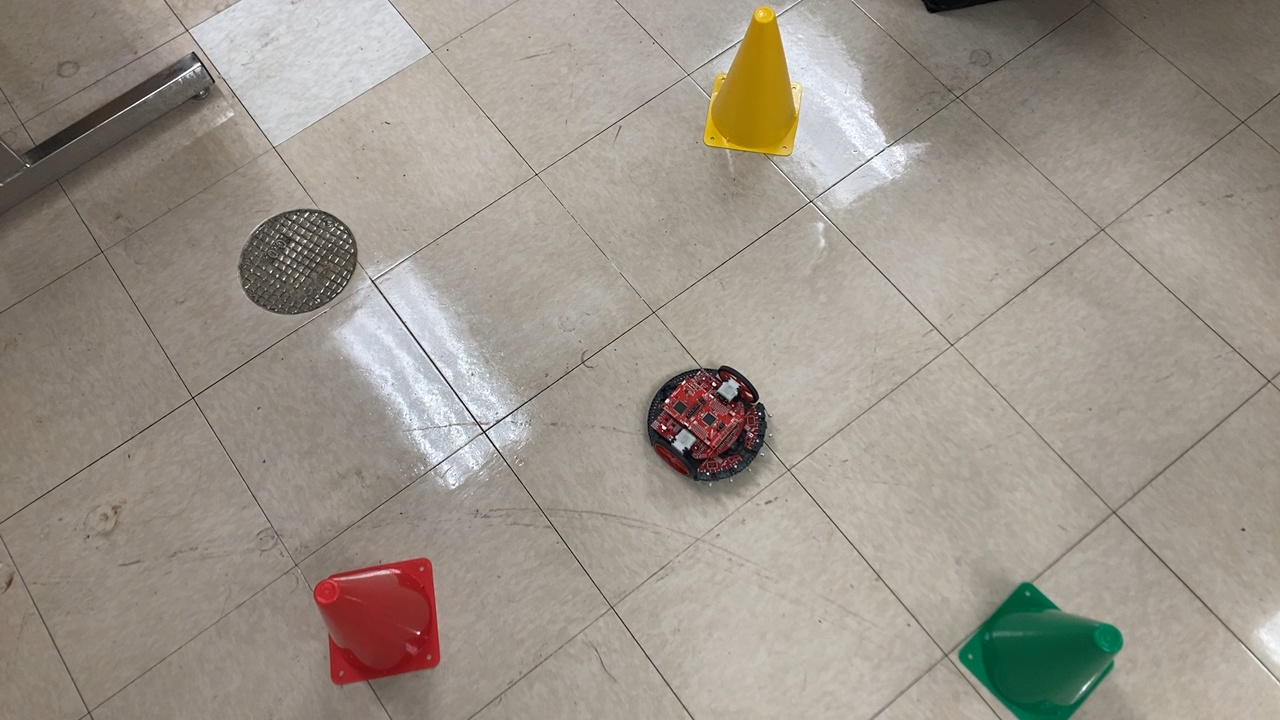green_cone: (945, 579, 1127, 720)
red_cone: (311, 555, 445, 693)
robot: (644, 364, 774, 489)
yellow_cone: (700, 4, 808, 162)
